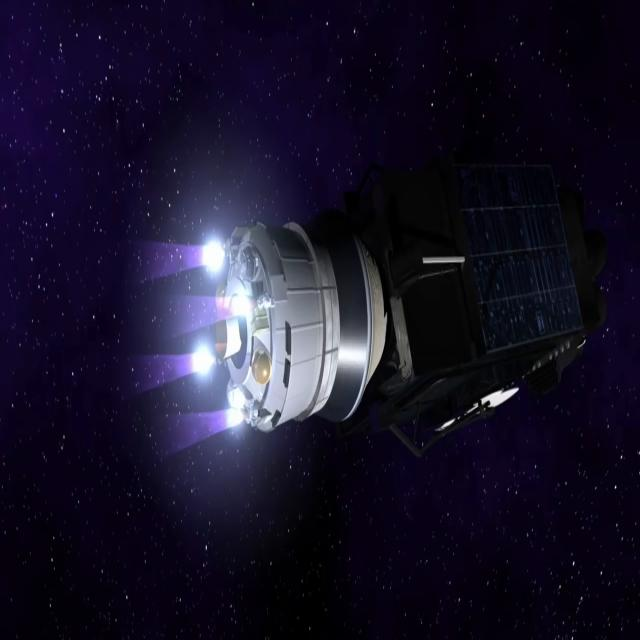medium_debris: (166, 199, 611, 468)
